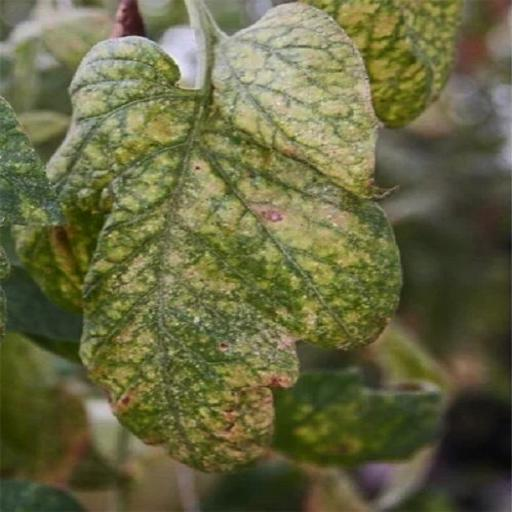disease_tomato: (46, 2, 405, 472)
